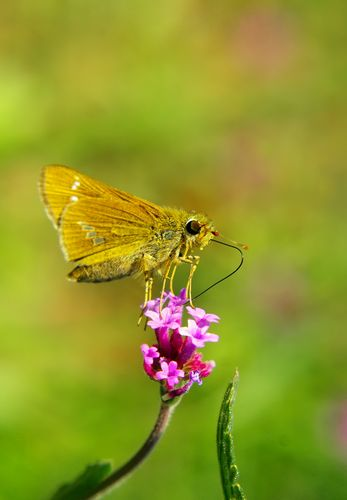Hesperiidae: (36, 159, 249, 306)
